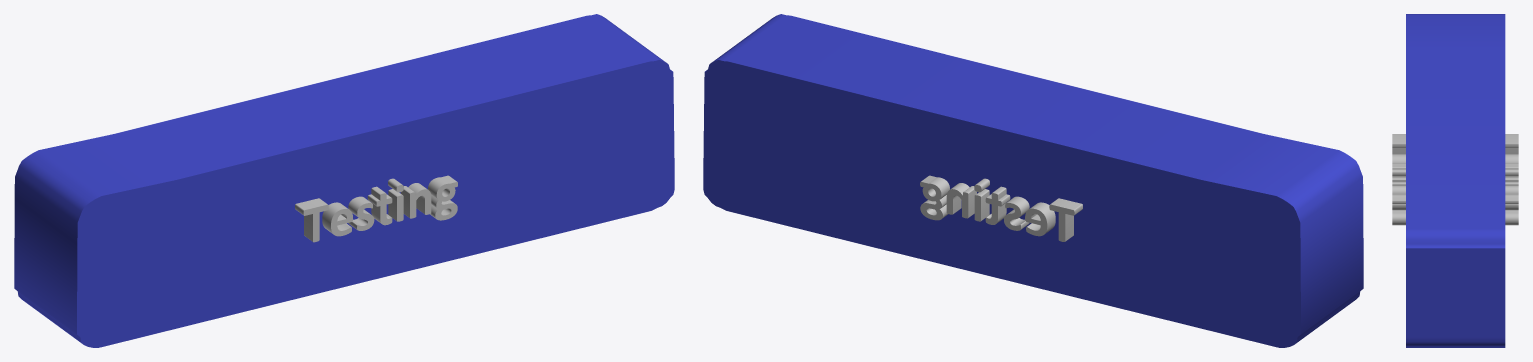
Rendered from testmodel.fbx.
The picture shows the model from 3 angles, left to right: view 1: azimuth 30°, elevation 25°; view 2: azimuth 150°, elevation 25°; view 3: azimuth 270°, elevation 25°; orthographic projection. The views are drawn at different scales.
Parts seen in each view (by area): view 1: root, node_id117; view 2: root, node_id117; view 3: root, node_id117.
Boxes of the visible parts, x1,y1,x2,y2 form: root: (14, 14, 674, 347); node_id117: (295, 175, 457, 242); root: (703, 14, 1363, 347); node_id117: (920, 175, 1082, 241); root: (1406, 14, 1505, 347); node_id117: (1392, 134, 1518, 225).
Size of the model in its own units: 0.4211 by 0.1022 by 0.0976.
